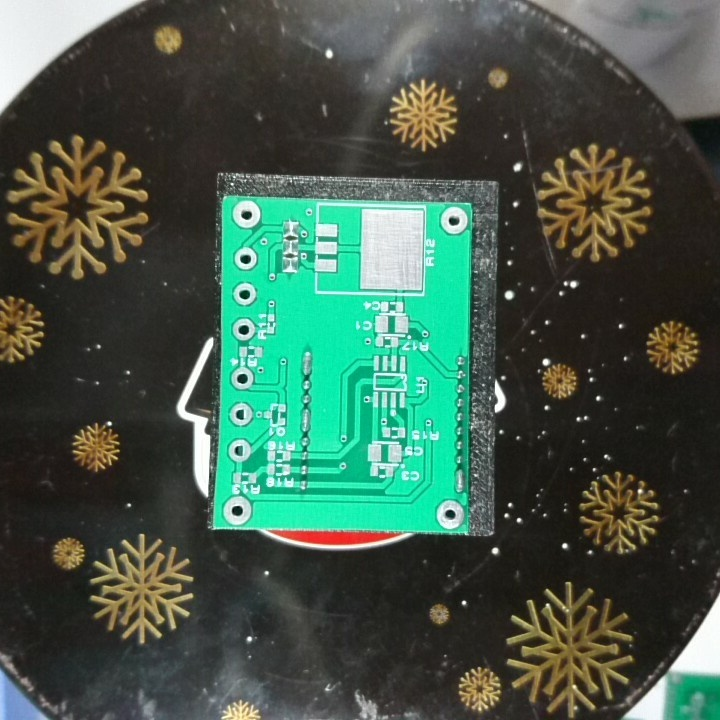F: (230, 199, 264, 232), (221, 493, 254, 526), (439, 205, 471, 238), (433, 497, 465, 529), (231, 281, 261, 309), (226, 400, 255, 428), (226, 437, 255, 464), (232, 245, 260, 271), (231, 315, 257, 343), (229, 366, 256, 392)
P: (300, 349, 315, 378), (299, 407, 314, 434), (452, 468, 466, 495)
